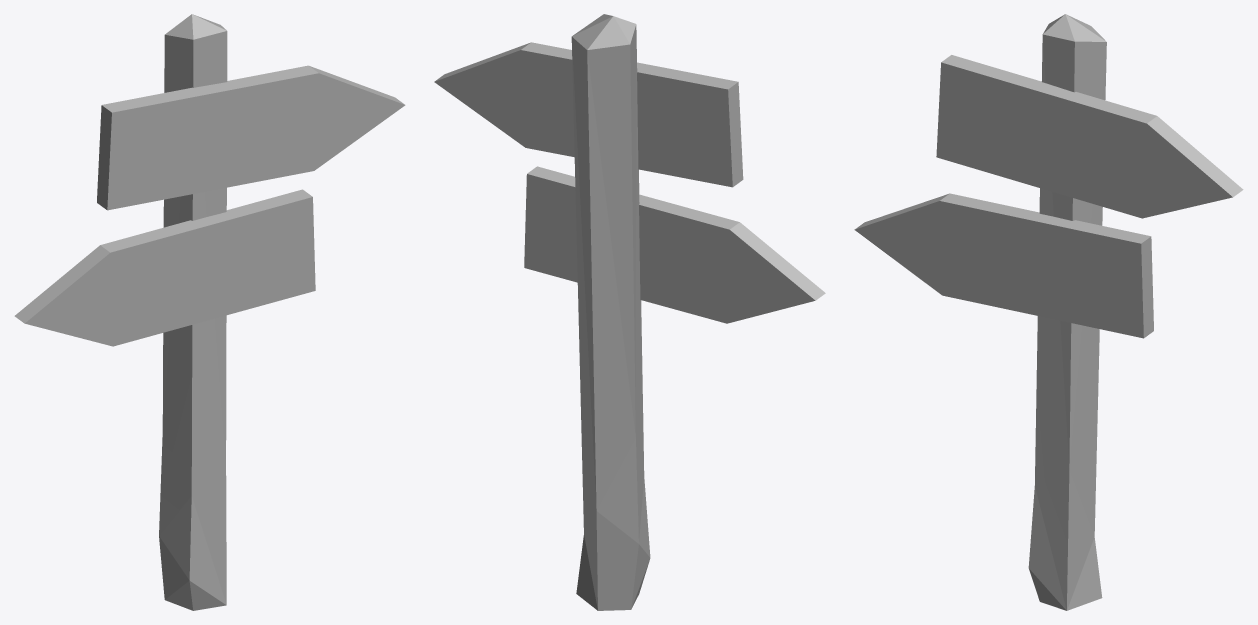
Rendered from Pointer_03.fbx.
The picture shows the model from 3 angles, left to right: view 1: azimuth 30°, elevation 25°; view 2: azimuth 150°, elevation 25°; view 3: azimuth 330°, elevation 25°; orthographic projection.
Parts seen in each view (by area): view 1: Pointer_03; view 2: Pointer_03; view 3: Pointer_03.
Boxes of the visible parts, x1,y1,x2,y2 form: Pointer_03: (14,14,405,610); Pointer_03: (434,14,825,610); Pointer_03: (854,14,1243,610).
Bounding box in the file's own units: 1.05 × 1.54 × 0.1918.
